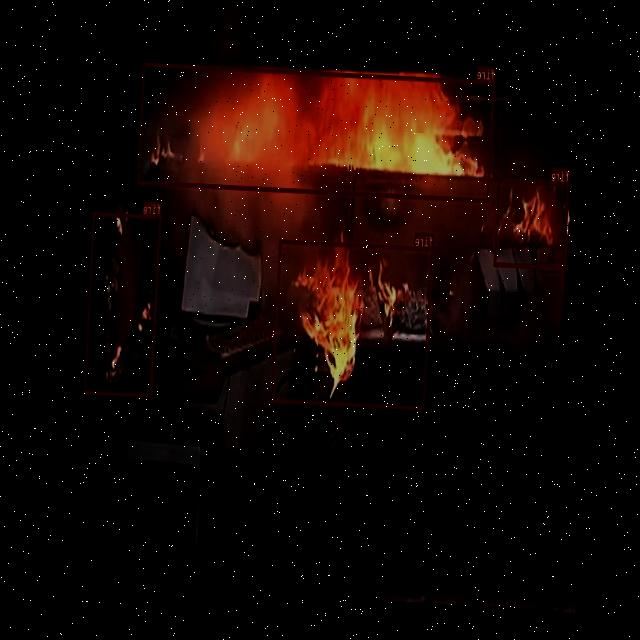fire: (138, 62, 496, 202), (272, 238, 434, 410), (84, 212, 161, 396), (494, 178, 570, 270)
